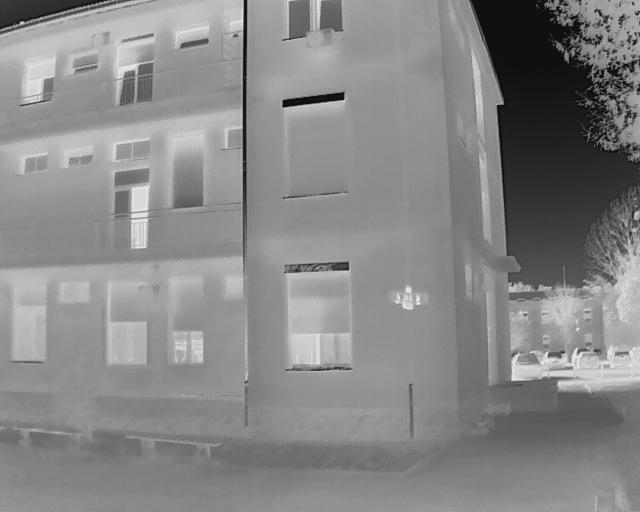drone: (381, 282, 435, 313)
